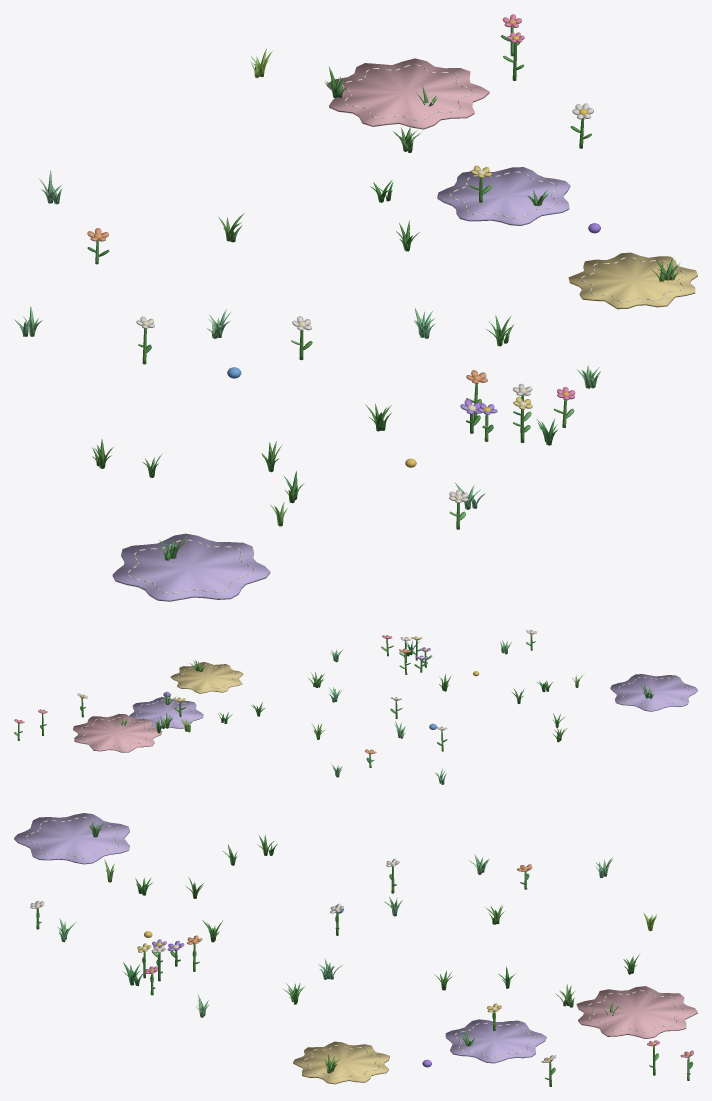
File: W3_FloraRing_8_11.fbx
The picture shows the model from 3 angles, top to bottom: view 1: azimuth 30°, elevation 25°; view 2: azimuth 150°, elevation 25°; view 3: azimuth 270°, elevation 25°; orthographic projection. The views are drawn at different scales.
Visible parts, largest first — view 1: W3_FloraRing_8_11; view 2: W3_FloraRing_8_11; view 3: W3_FloraRing_8_11.
Boxes of the visible parts, x1=… form: W3_FloraRing_8_11: x1=14, y1=14, x2=697, y2=601; W3_FloraRing_8_11: x1=14, y1=630, x2=697, y2=784; W3_FloraRing_8_11: x1=14, y1=813, x2=697, y2=1086.
Bounding box in the file's own units: 4.13 × 0.6169 × 4.04.
